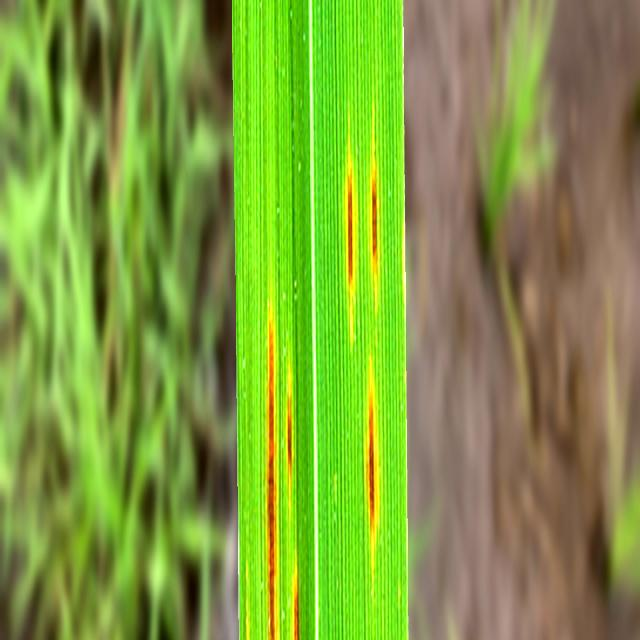NBS: (268, 321, 275, 640), (369, 387, 375, 532), (347, 162, 353, 294), (372, 178, 377, 258), (288, 397, 292, 471), (294, 590, 299, 640)
